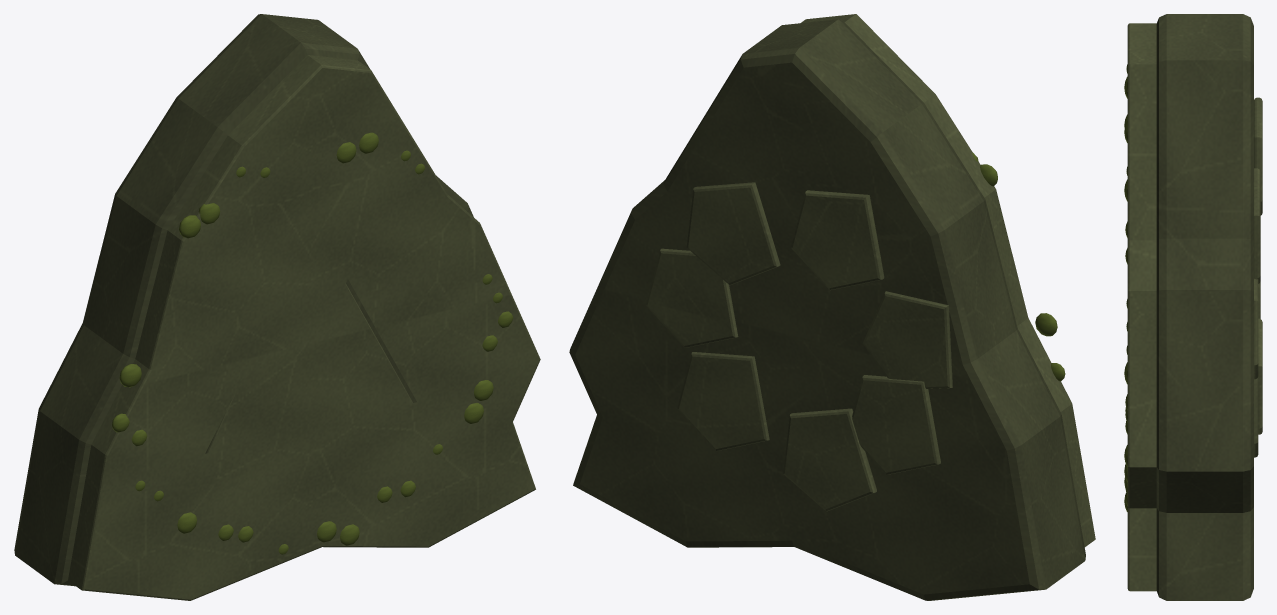
Rendered from earth_essence.glb.
The picture shows the model from 3 angles, left to right: view 1: azimuth 30°, elevation 25°; view 2: azimuth 150°, elevation 25°; view 3: azimuth 270°, elevation 25°; orthographic projection. The views are drawn at different scales.
Parts seen in each view (by area): view 1: earth_essence fractured mineral, earth_essence weathered fracture edges, Root cache moss; view 2: earth_essence weathered fracture edges, earth_essence fractured mineral, Root cache moss; view 3: earth_essence weathered fracture edges, earth_essence fractured mineral, Root cache moss.
Part boxes in pixels (left/top/right/bottom): earth_essence fractured mineral: left=68, top=55, right=540, bottom=600; earth_essence weathered fracture edges: left=14, top=14, right=473, bottom=586; Root cache moss: left=112, top=132, right=513, bottom=554; earth_essence weathered fracture edges: left=569, top=19, right=1085, bottom=600; earth_essence fractured mineral: left=646, top=14, right=1095, bottom=547; Root cache moss: left=972, top=152, right=1065, bottom=381; earth_essence weathered fracture edges: left=1156, top=14, right=1253, bottom=600; earth_essence fractured mineral: left=1127, top=23, right=1262, bottom=591; Root cache moss: left=1124, top=64, right=1127, bottom=511.
Size of the model in its own units: 0.1753 by 0.1852 by 0.0452.
4 materials, 4 textured.
